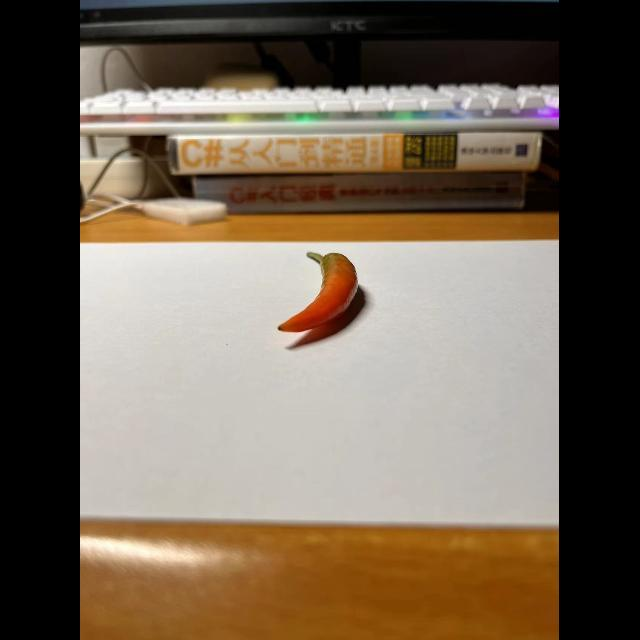chili_pepper: (278, 246, 368, 342)
